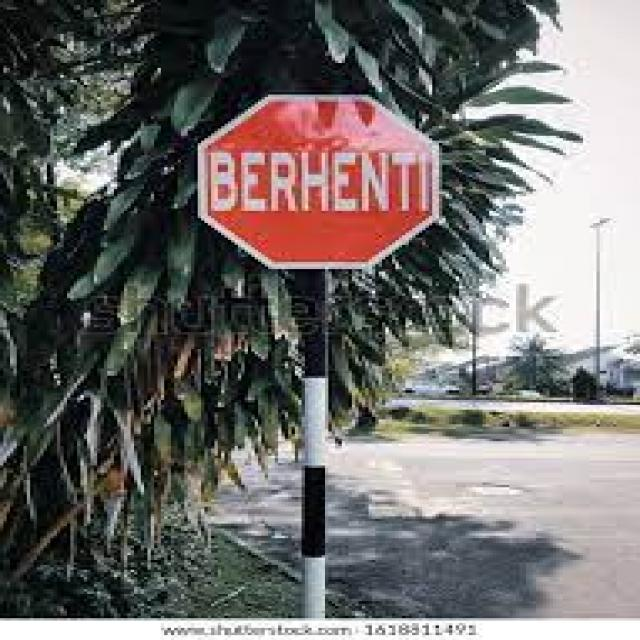stop-sign: (179, 85, 468, 321)
